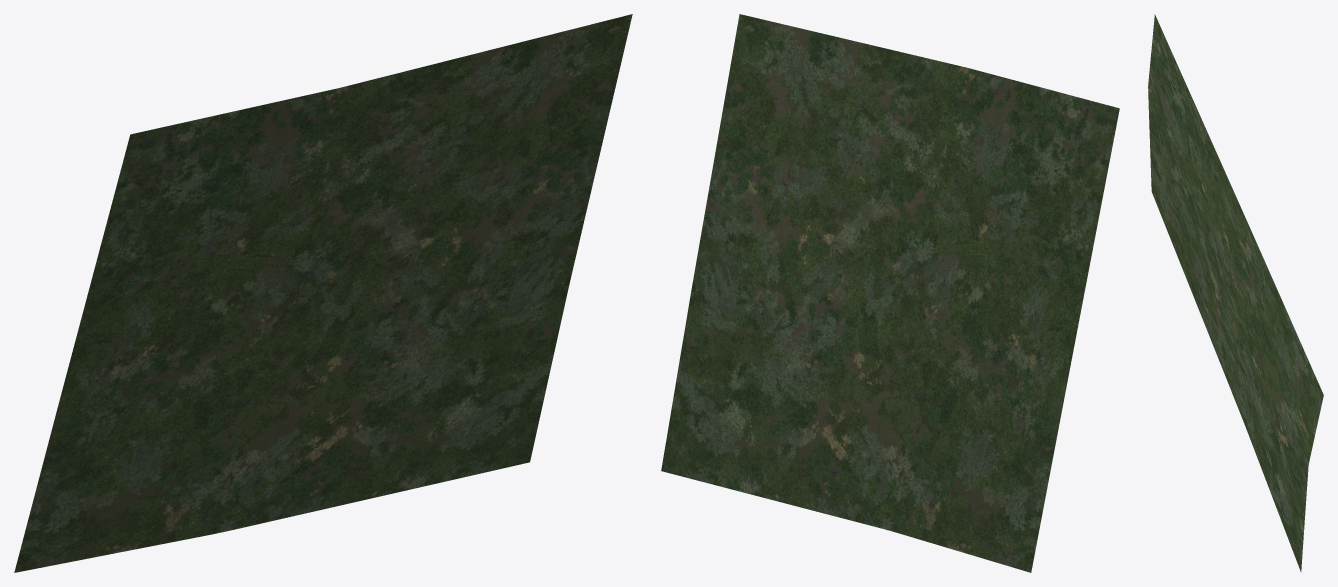
Rendered from terrain_core_00_04.obj.
3 views of the same model, side by side, from view 1: azimuth 30°, elevation 25°; view 2: azimuth 150°, elevation 25°; view 3: azimuth 270°, elevation 25° (orthographic). The views are drawn at different scales.
Visible parts, largest first — view 1: terrain_core_00_04; view 2: terrain_core_00_04; view 3: terrain_core_00_04.
Part boxes in pixels (x1=…): terrain_core_00_04: x1=14, y1=14, x2=632, y2=572; terrain_core_00_04: x1=661, y1=14, x2=1119, y2=572; terrain_core_00_04: x1=1148, y1=14, x2=1323, y2=572.
Size of the model in its own units: 32 by 32 by 13.37.
1 material, 1 textured.
